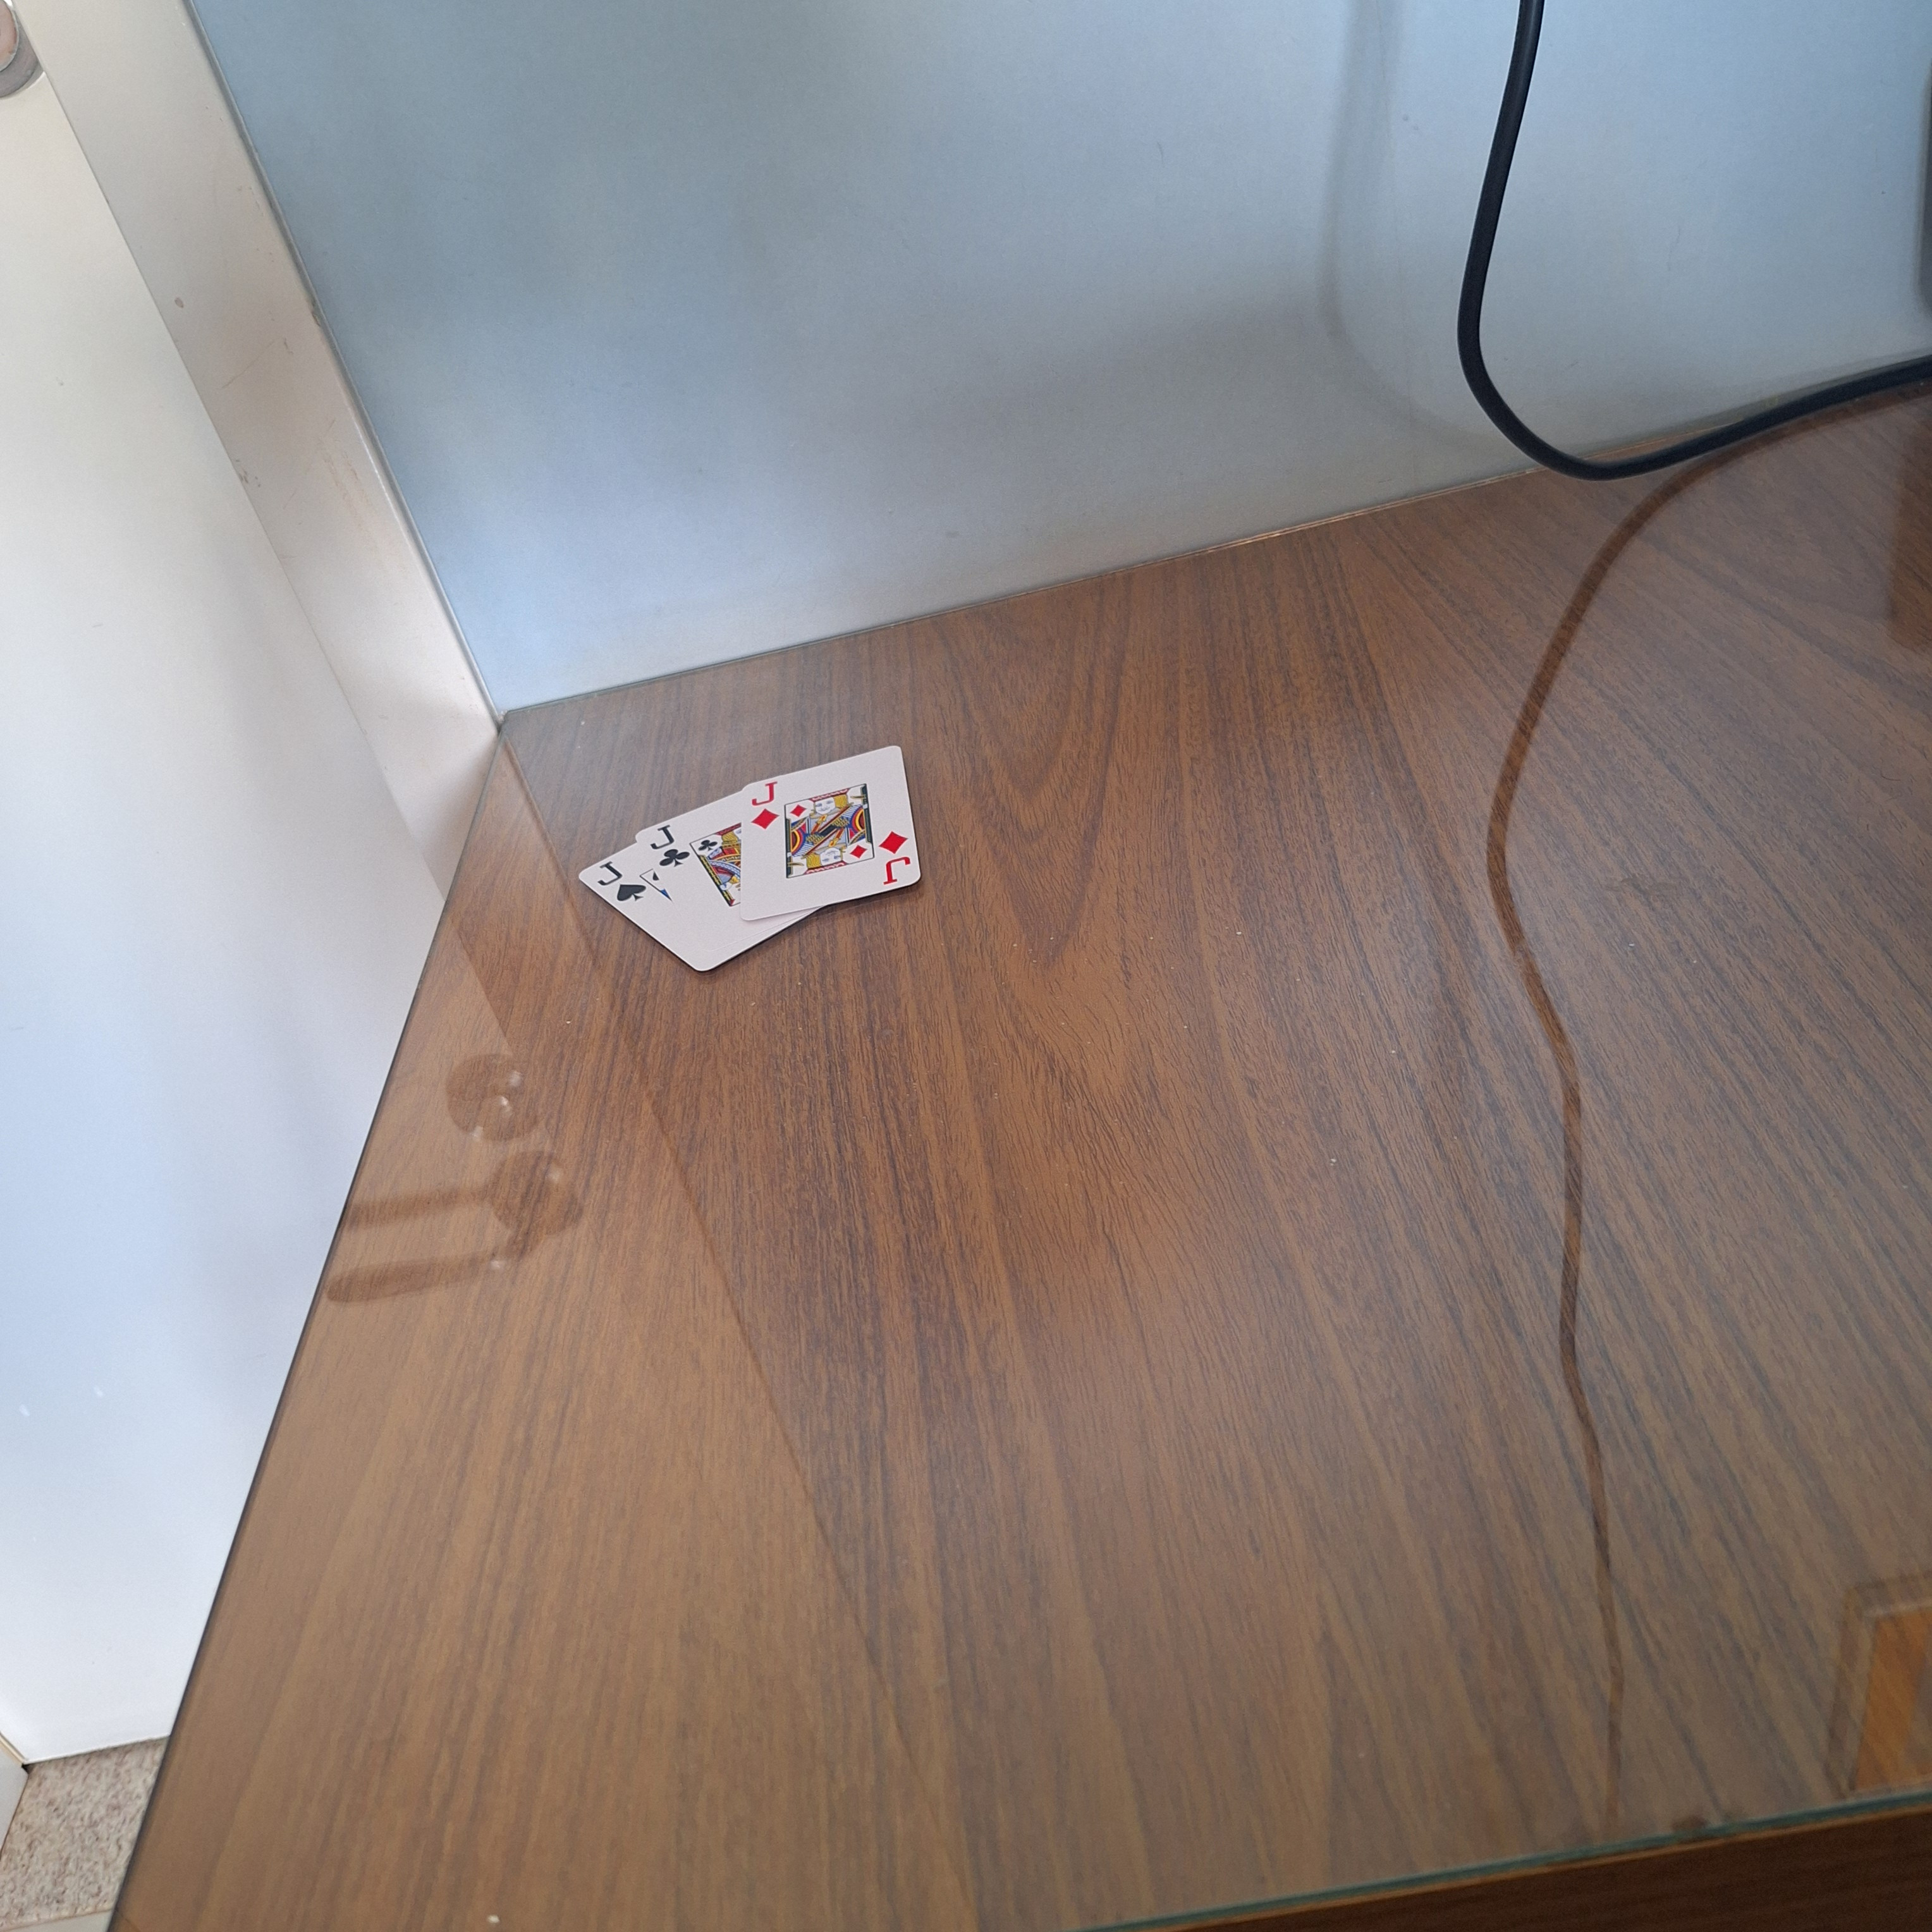JE: (586, 856, 655, 915)
JO: (874, 826, 918, 895), (740, 775, 786, 835)
JP: (640, 819, 701, 874)
